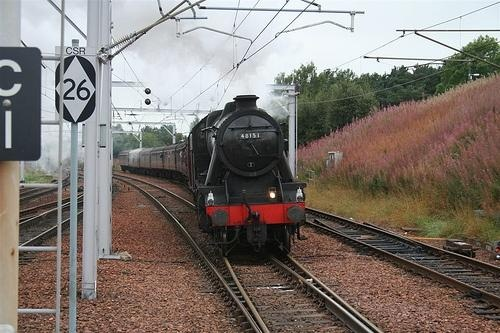train: (119, 94, 308, 258)
